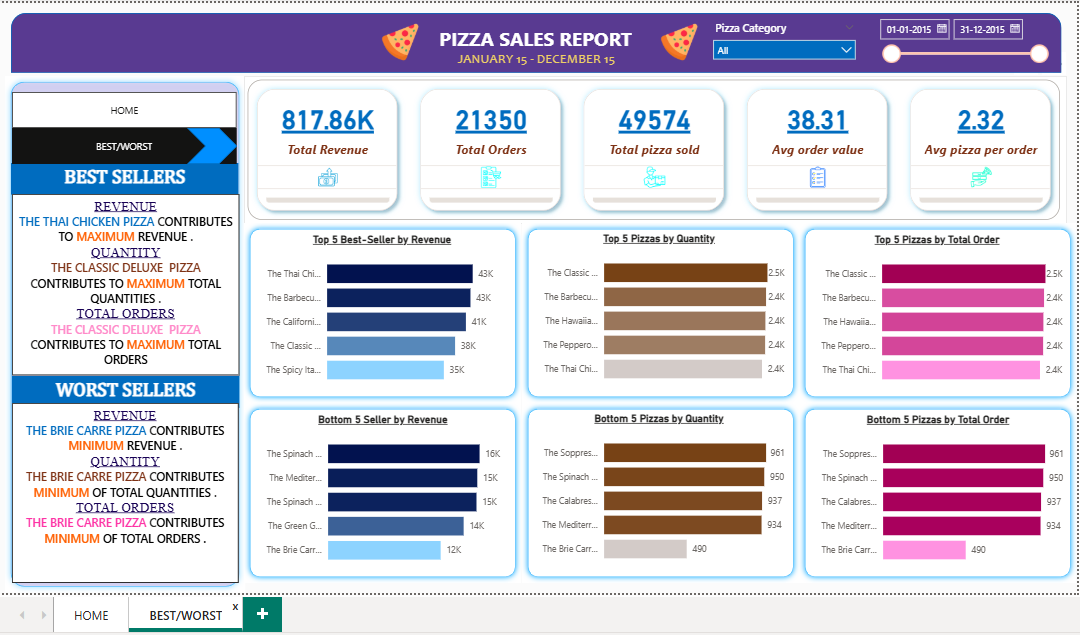

Layout of this report page (visuals, bound fields, positions):
{"tool":"powerbi","page":{"name":"BEST/WORST","canvas":[1500,820],"ordinal":1},"visuals":[{"type":"shape","box":[11.3,101.6,333.9,717.7],"z":0},{"type":"cardVisual","fields":{"Data":["pizza_sales.Total Revenue","pizza_sales.Total Orders","pizza_sales.Total pizza sold","pizza_sales.Avg order value","pizza_sales.Avg pizza per order"]},"box":[343.3,101.7,1143.3,205],"z":1000},{"type":"shape","box":[20,13.3,1460,83.3],"z":2000},{"type":"textbox","box":[513.3,26.7,471.7,55],"z":3000},{"type":"textbox","box":[628.3,60,243.3,41.7],"z":4000},{"type":"image","box":[524.2,27.4,72.6,53.2],"z":5000},{"type":"image","box":[911.3,27.4,72.6,53.2],"z":6000},{"type":"shape","box":[343.5,306.5,385.5,250],"z":7000},{"type":"textbox","box":[19.4,222.6,316.1,43.5],"z":8000},{"type":"textbox","box":[21,266.1,316.1,251.6],"z":9000},{"type":"textbox","box":[21,517.7,316.1,43.5],"z":10000},{"type":"textbox","box":[21,556.5,314.5,250],"z":11000},{"type":"slicer","fields":{"Values":["pizza_sales.pizza_category"]},"box":[985.5,19.4,217.7,69.4],"z":12000},{"type":"slicer","fields":{"Values":["pizza_sales.order_date"]},"box":[1214.5,12.9,254.8,83.9],"z":13000},{"type":"shape","box":[729,306.5,385.5,250],"z":14000},{"type":"shape","box":[1114.5,306.5,385.5,250],"z":15000},{"type":"shape","box":[343.5,556.5,385.5,250],"z":16000},{"type":"shape","box":[729,556.5,385.5,250],"z":17000},{"type":"shape","box":[1114.5,556.5,385.5,250],"z":18000},{"type":"barChart","title":"Top 5 Best-Seller by Revenue","fields":{"Category":["pizza_sales.pizza_name"],"Y":["pizza_sales.Total Revenue"]},"box":[356.2,321.2,358.8,221.2],"z":19000},{"type":"barChart","title":"Bottom 5 Seller by Revenue","fields":{"Category":["pizza_sales.pizza_name"],"Y":["pizza_sales.Total Revenue"]},"box":[356.9,571,358.4,221.7],"z":20000},{"type":"barChart","title":"Top 5 Pizzas by Quantity","fields":{"Category":["pizza_sales.pizza_name"],"Y":["pizza_sales.Total pizza sold"]},"box":[741.2,320,358.8,221.2],"z":21000},{"type":"barChart","title":"Bottom 5 Pizzas by Quantity","fields":{"Category":["pizza_sales.pizza_name"],"Y":["pizza_sales.Total pizza sold"]},"box":[741.2,570,358.8,221.2],"z":22000},{"type":"barChart","title":"Top 5 Pizzas by Total Order","fields":{"Category":["pizza_sales.pizza_name"],"Y":["pizza_sales.Total pizza sold"]},"box":[1127.5,321.2,358.8,221.2],"z":23000},{"type":"barChart","title":"Bottom 5 Pizzas by Total Order","fields":{"Category":["pizza_sales.pizza_name"],"Y":["pizza_sales.Total pizza sold"]},"box":[1128.8,571.2,358.8,221.2],"z":24000},{"type":"pageNavigator","box":[21.3,173.1,312.8,50.1],"z":24001},{"type":"pageNavigator","box":[21.3,123,312.8,50.1],"z":24002},{"type":"shape","box":[264.2,173.1,69.9,50.1],"z":24003}]}

Visuals, with their boxes on the page's 1500x820 design canvas (x1, y1, x2, y2). These are canvas units, not pixel positions in the 1080x635 screenshot, which may show the page scaled, cropped or inside an application window:
shape: left=11, top=102, right=345, bottom=819
cardVisual - pizza_sales.Total Revenue x pizza_sales.Total Orders: left=343, top=102, right=1487, bottom=307
shape: left=20, top=13, right=1480, bottom=97
textbox: left=513, top=27, right=985, bottom=82
textbox: left=628, top=60, right=872, bottom=102
image: left=524, top=27, right=597, bottom=81
image: left=911, top=27, right=984, bottom=81
shape: left=344, top=306, right=729, bottom=556
textbox: left=19, top=223, right=336, bottom=266
textbox: left=21, top=266, right=337, bottom=518
textbox: left=21, top=518, right=337, bottom=561
textbox: left=21, top=556, right=336, bottom=806
slicer - pizza_sales.pizza_category: left=986, top=19, right=1203, bottom=89
slicer - pizza_sales.order_date: left=1214, top=13, right=1469, bottom=97
shape: left=729, top=306, right=1114, bottom=556
shape: left=1114, top=306, right=1500, bottom=556
shape: left=344, top=556, right=729, bottom=806
shape: left=729, top=556, right=1114, bottom=806
shape: left=1114, top=556, right=1500, bottom=806
"Top 5 Best-Seller by Revenue" barChart: left=356, top=321, right=715, bottom=542
"Bottom 5 Seller by Revenue" barChart: left=357, top=571, right=715, bottom=793
"Top 5 Pizzas by Quantity" barChart: left=741, top=320, right=1100, bottom=541
"Bottom 5 Pizzas by Quantity" barChart: left=741, top=570, right=1100, bottom=791
"Top 5 Pizzas by Total Order" barChart: left=1128, top=321, right=1486, bottom=542
"Bottom 5 Pizzas by Total Order" barChart: left=1129, top=571, right=1488, bottom=792
pageNavigator: left=21, top=173, right=334, bottom=223
pageNavigator: left=21, top=123, right=334, bottom=173
shape: left=264, top=173, right=334, bottom=223
